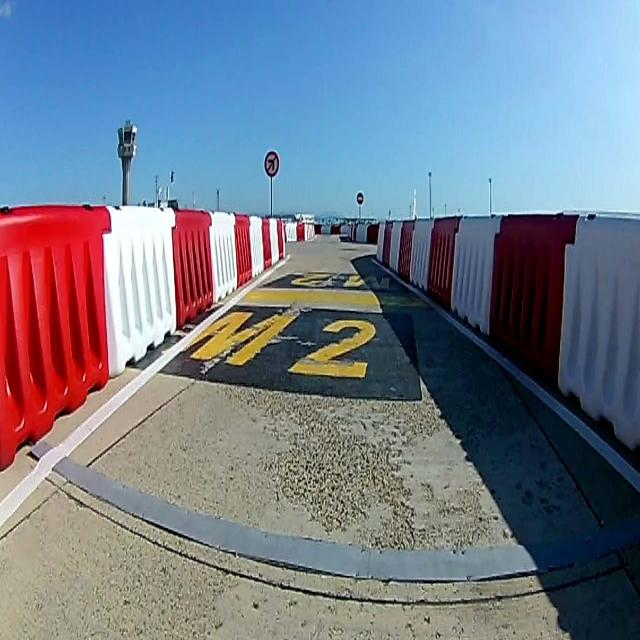soladonulmez: (265, 152, 279, 176)
